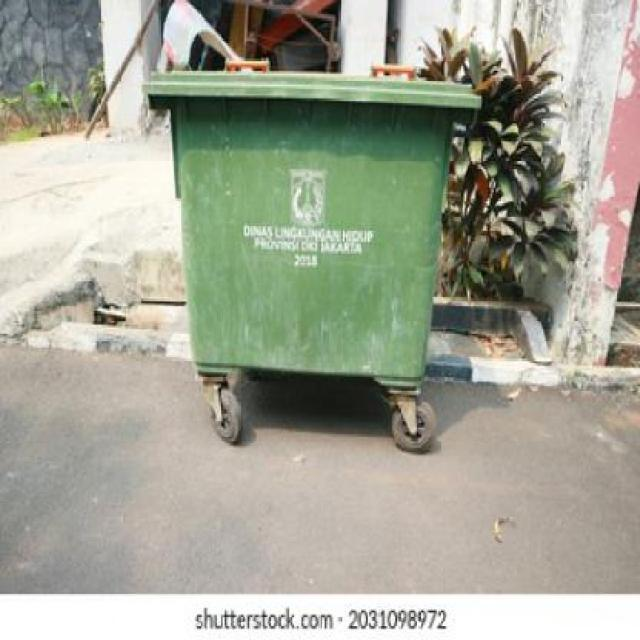garbage container: (135, 56, 491, 464)
